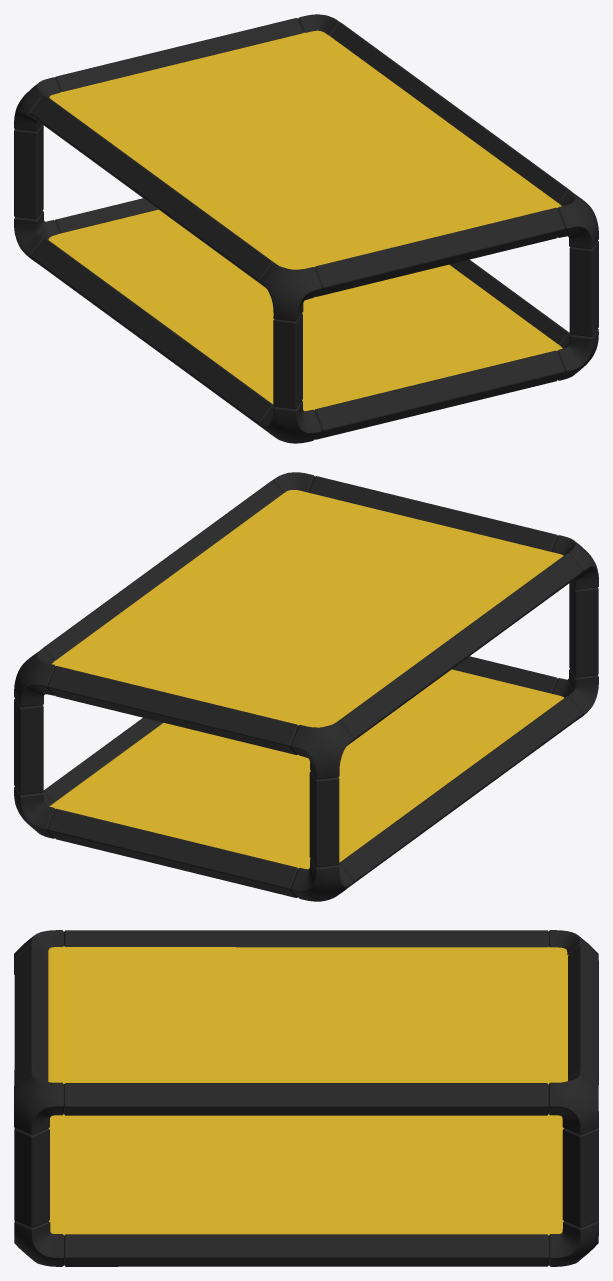
3 views of the same model, one above another, from view 1: azimuth 30°, elevation 25°; view 2: azimuth 150°, elevation 25°; view 3: azimuth 270°, elevation 25° (orthographic). The views are drawn at different scales.
Parts seen in each view (by area): view 1: 229x374x79; view 2: 229x374x79; view 3: 229x374x79.
Part boxes in pixels (x1,y1,x2,y2): 229x374x79: (14,14,598,443); 229x374x79: (14,472,598,901); 229x374x79: (14,930,598,1266).
Bounding box in the file's own units: 0.3067 × 0.1568 × 0.4513.
